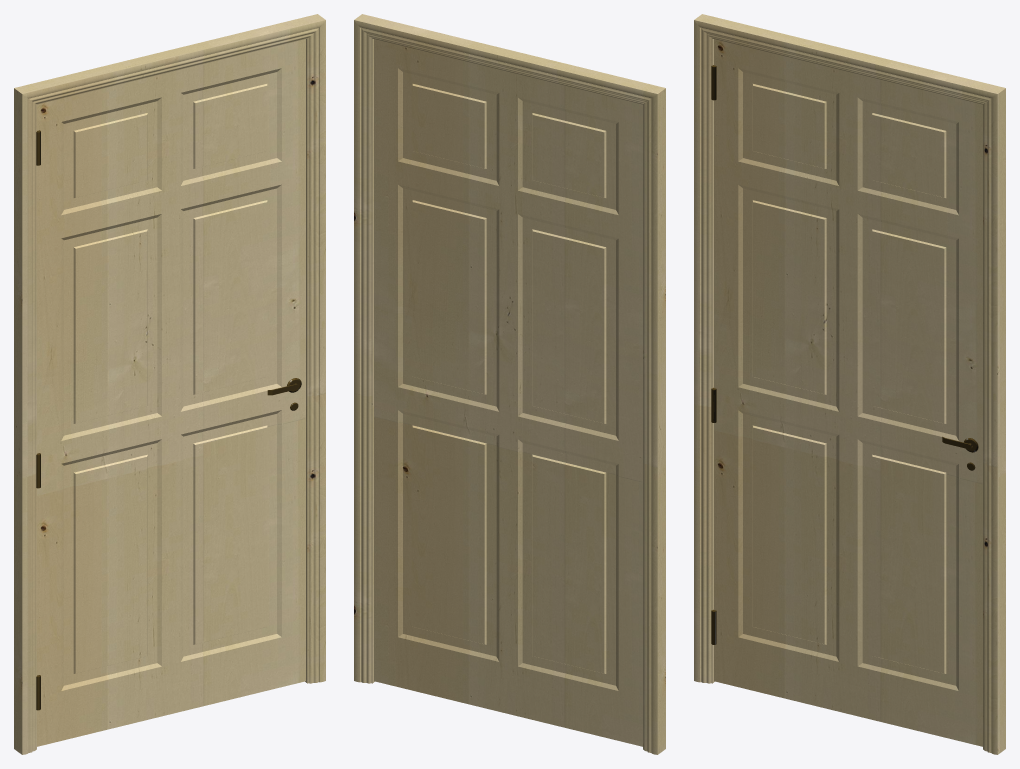
The model's file is DoorS.obj.
3 views of the same model, side by side, from view 1: azimuth 30°, elevation 25°; view 2: azimuth 150°, elevation 25°; view 3: azimuth 330°, elevation 25° (orthographic).
Visible parts, largest first — view 1: door; view 2: door; view 3: door.
Part boxes in pixels (<box>): door: <box>14,14,325,754</box>; door: <box>354,14,665,754</box>; door: <box>694,14,1005,754</box>.
Size of the model in its own units: 9.95 by 20.69 by 0.5126.
Materials: 1 (1 with a texture image).
